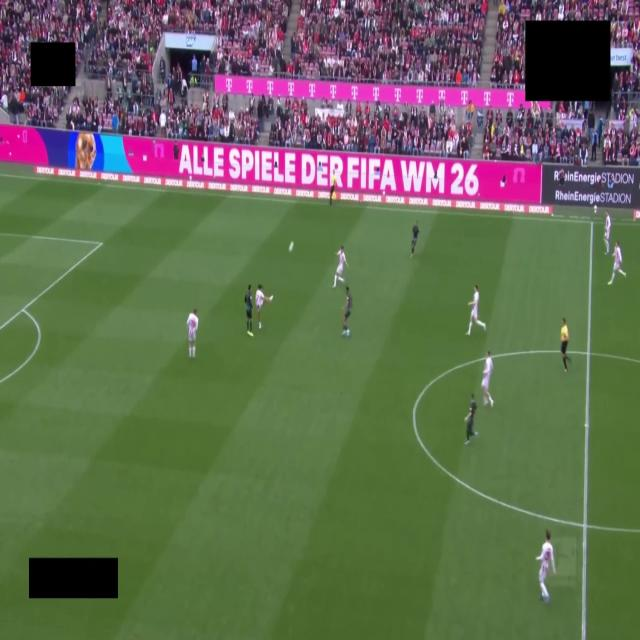ball: (289, 241, 293, 252)
player: (536, 530, 555, 603), (467, 286, 486, 335), (608, 242, 626, 284), (255, 285, 272, 329), (465, 394, 478, 444), (333, 246, 348, 287), (482, 352, 493, 407), (342, 286, 353, 337), (187, 309, 198, 358), (245, 285, 253, 336), (604, 211, 611, 255), (411, 221, 419, 257)
referee: (561, 318, 570, 372)
